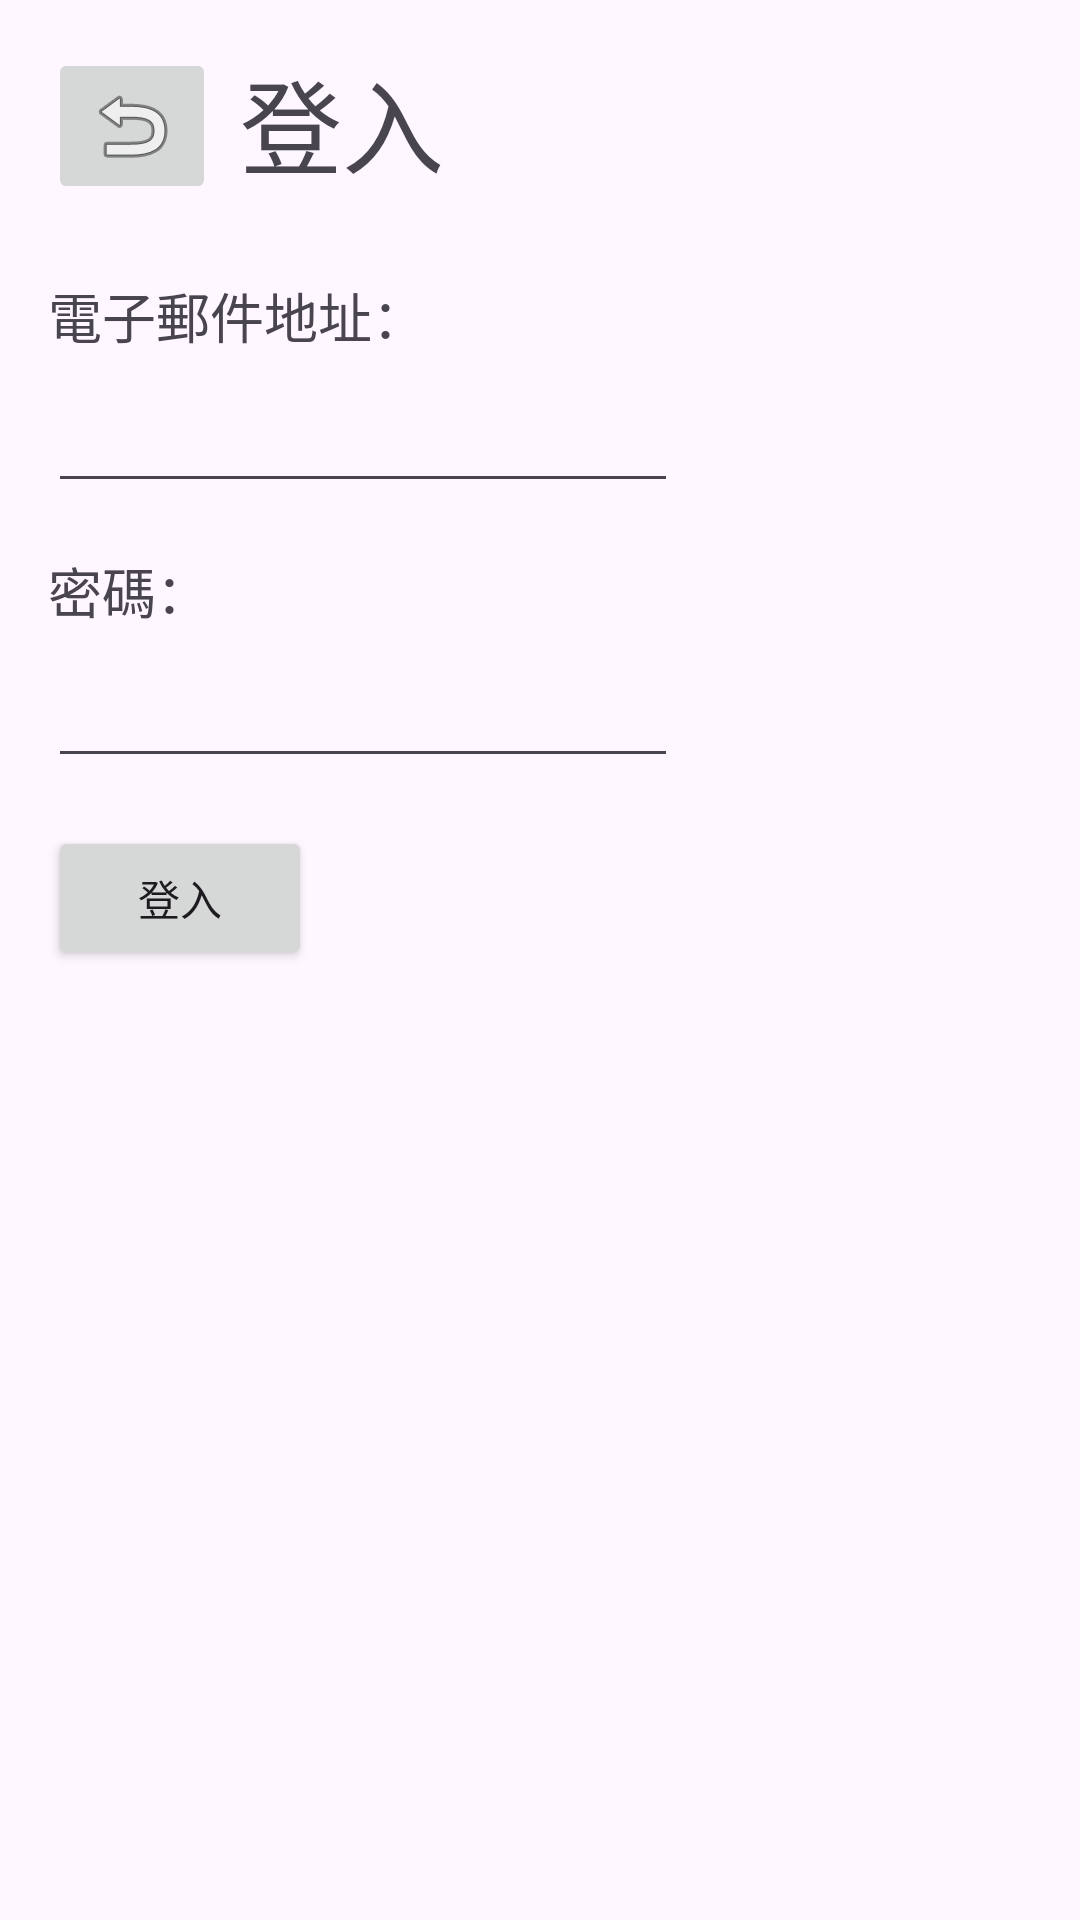

Icons on this 1080px x 1920px Android screen, each with the point to tap as (x=x, y=y):
revert: (x=132, y=126)
